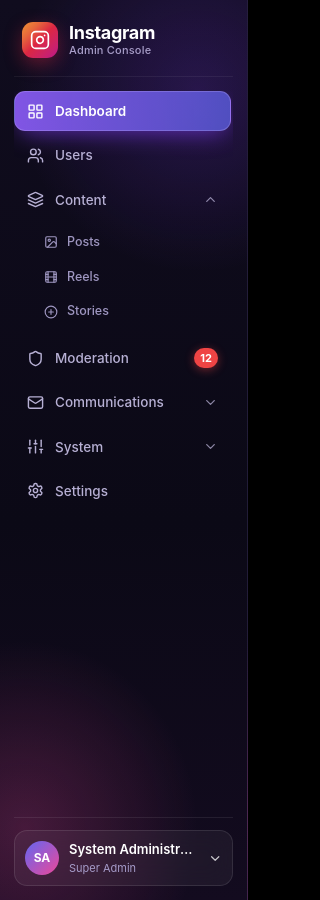
Test: Admin Dashboard & User Management Suite › removes My Profile from the AdminConsoleSidebar account popover while keeping theme, switch accounts, and logout
Click the button "SA System Administrator Super Admin": [124, 858] box [14,830,233,886]
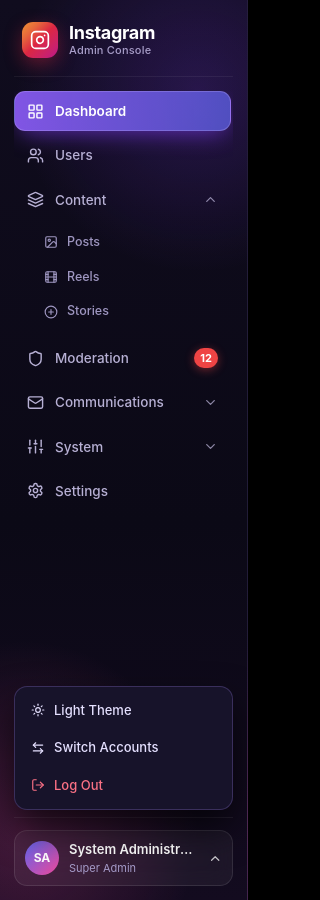
Check: the menu is shown, box [14,686,233,810]
Check: the text "Light Theme" is shown, box [54,700,132,720]
Check: the text "Switch Accounts" is shown, box [54,738,158,758]
